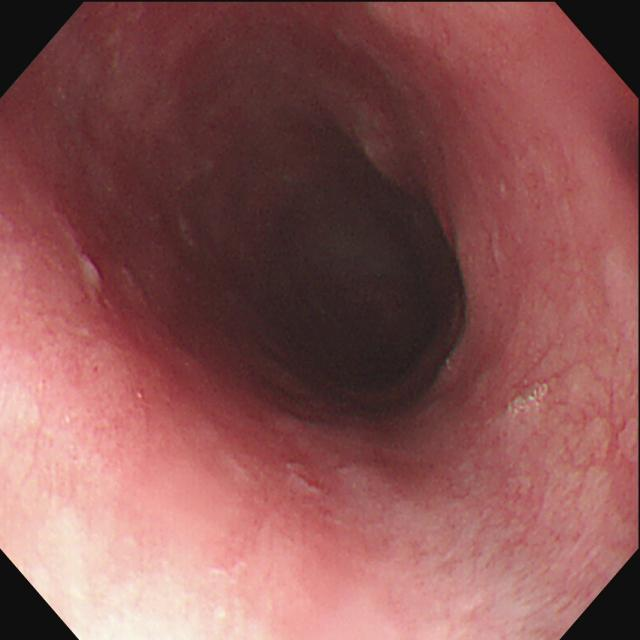E: (308, 239, 454, 413)
J: (79, 254, 112, 307), (506, 384, 549, 421), (287, 462, 323, 495)
